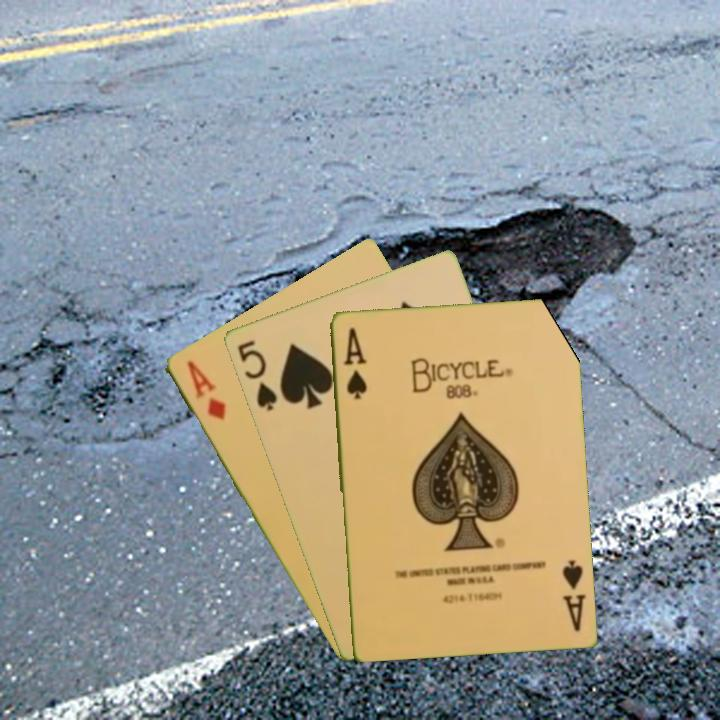5s: (233, 336, 280, 414)
Ad: (182, 357, 229, 423)
As: (558, 555, 588, 634), (340, 323, 369, 402)
